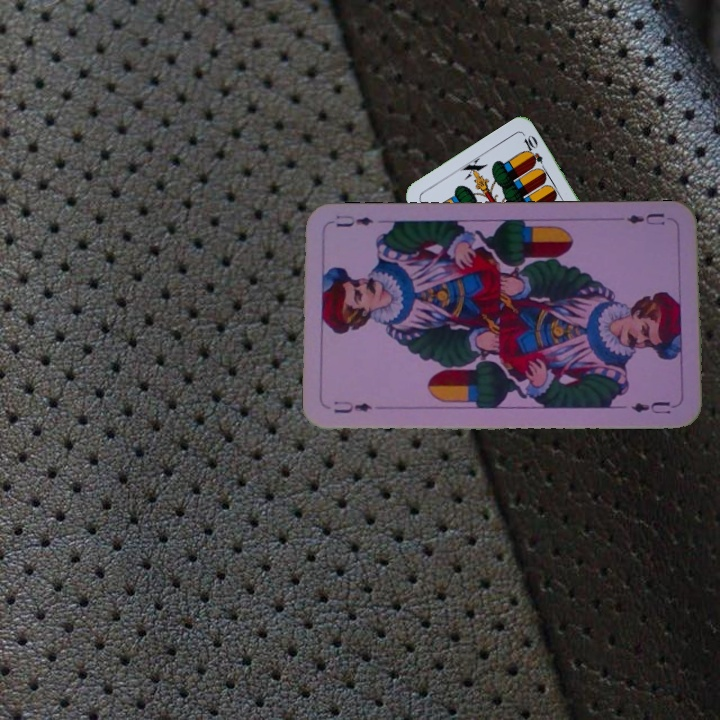EU: (623, 208, 668, 228), (330, 396, 374, 416)
